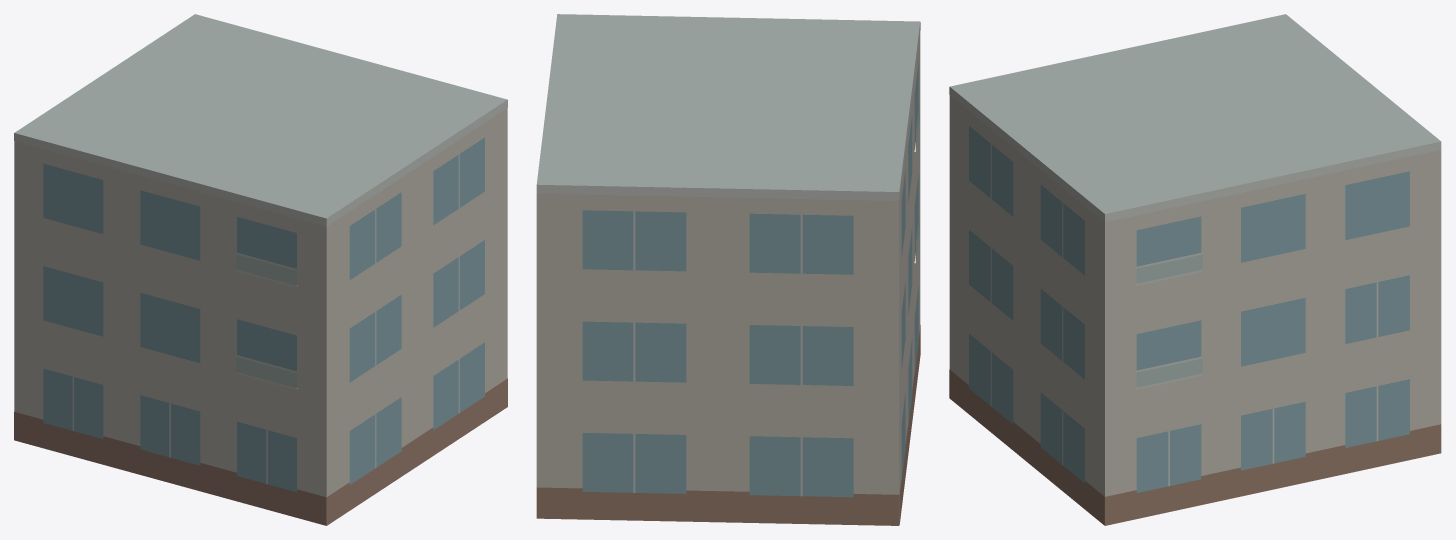
File: survey-upis-32838355.glb
3 views of the same model, side by side, from view 1: azimuth 30°, elevation 25°; view 2: azimuth 150°, elevation 25°; view 3: azimuth 270°, elevation 25° (orthographic). The views are drawn at different scales.
Parts seen in each view (by area): view 1: survey-upis-32838355.tmp; view 2: survey-upis-32838355.tmp; view 3: survey-upis-32838355.tmp.
Part boxes in pixels (left/top/right/bottom): survey-upis-32838355.tmp: left=14, top=14, right=507, bottom=525; survey-upis-32838355.tmp: left=536, top=14, right=920, bottom=525; survey-upis-32838355.tmp: left=949, top=14, right=1441, bottom=525.
Bounding box in the file's own units: 12.61 × 9.15 × 13.09.
